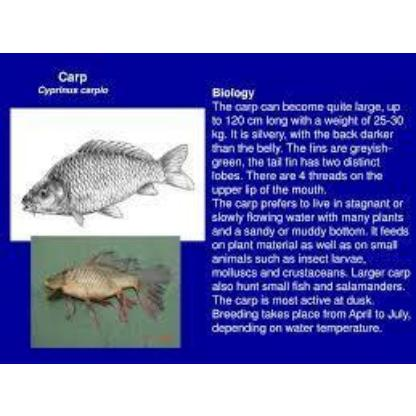ikan-mas: (19, 132, 193, 226), (42, 249, 174, 311)
